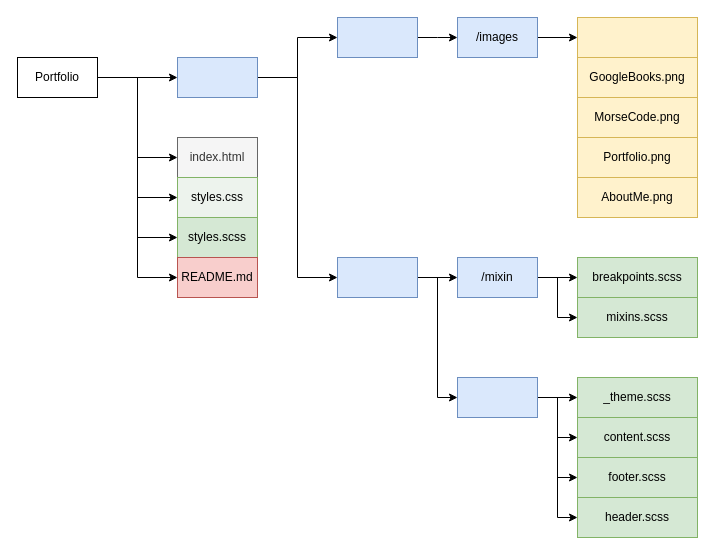
Some shapes in this 715 by 555 pixel diagram are drawn without their labels. The shapes that lost their labels are listed below. From the top down, each one's centre as x and y in pixels, then its label:
At (x=377, y=37): "/assets".
At (x=637, y=37): "FakeOS.png".
At (x=217, y=77): "/resources".
At (x=377, y=277): "/styles".
At (x=497, y=397): "/module".
